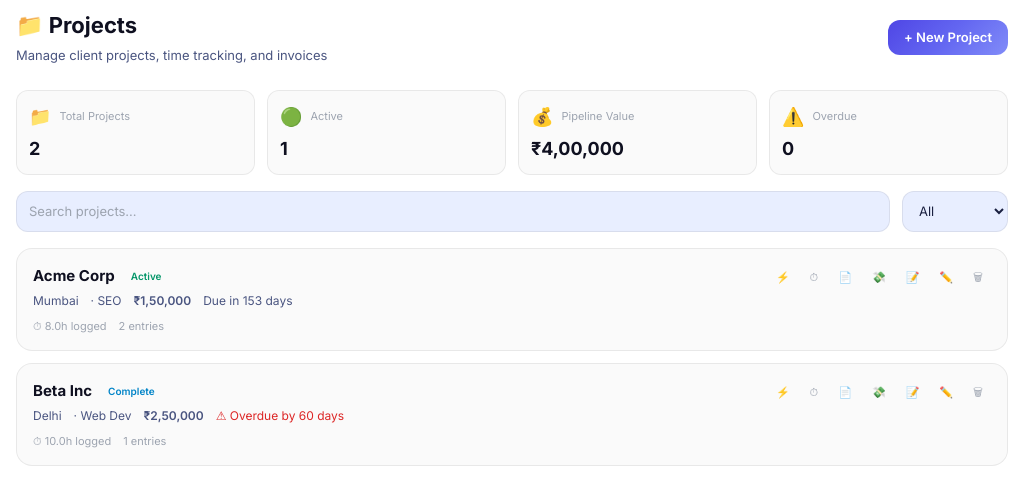
it: ProjectsTab › filtering › shows no match message when filters return empty
Expected: the heading "Acme Corp" is shown, top-left (33, 265), bottom-right (115, 288)
Type "Nonexistent" into the field with placeholder "Search projects..." at (453, 211), box top-left (16, 190), bottom-right (890, 232)
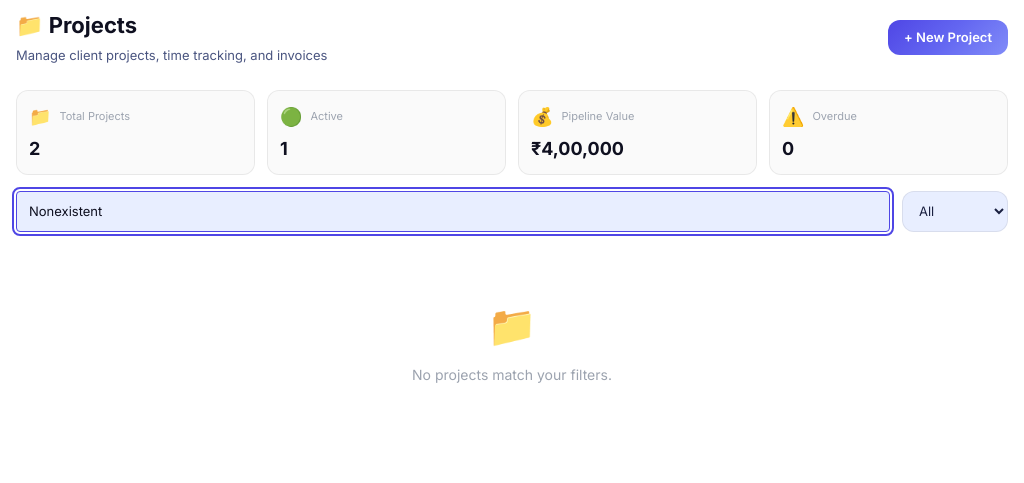
Now the text "No projects match your filters." is shown, box top-left (412, 366), bottom-right (612, 383)
